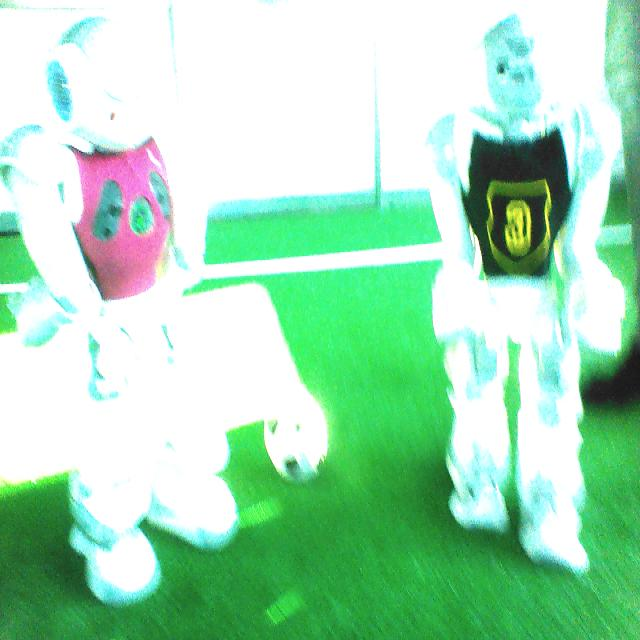ball: (248, 383, 341, 493)
